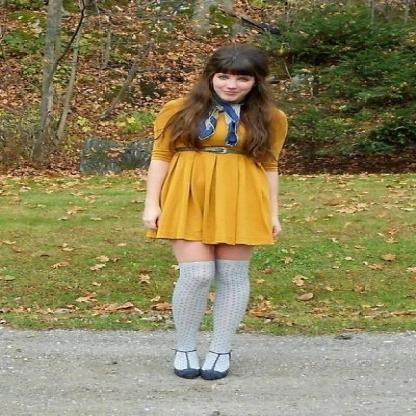dress: (140, 104, 294, 246)
shoe: (174, 352, 228, 380)
